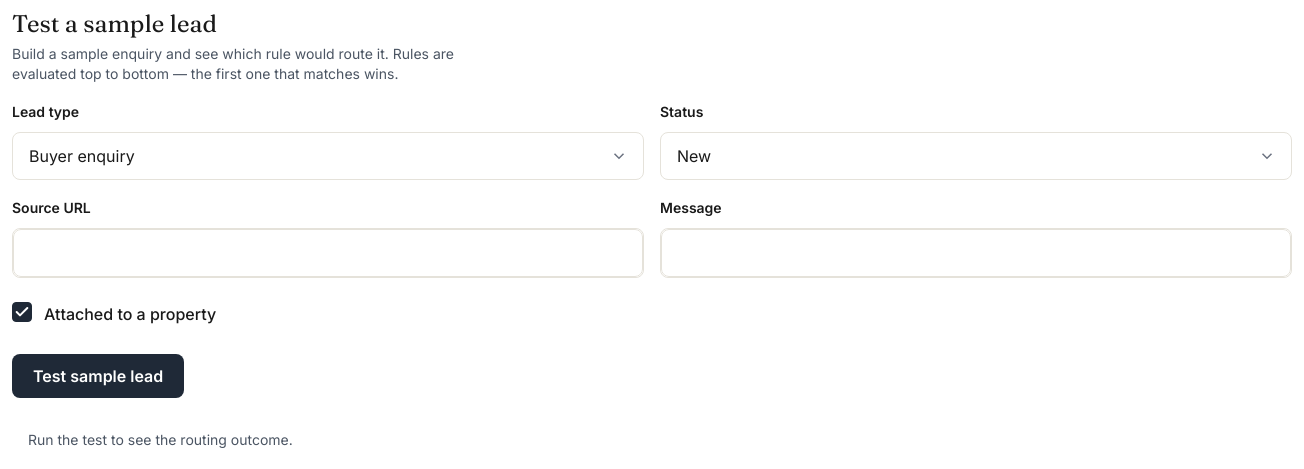
Test: AssignmentRuleTester (FR-H-4 — test against a sample before saving) › falls through to a later rule when the first does not match
The width and height of the screenshot is (1304, 469).
Select "Contacted" in the dropdown labelled "Status" at (976,156), box [660, 132, 1292, 180]
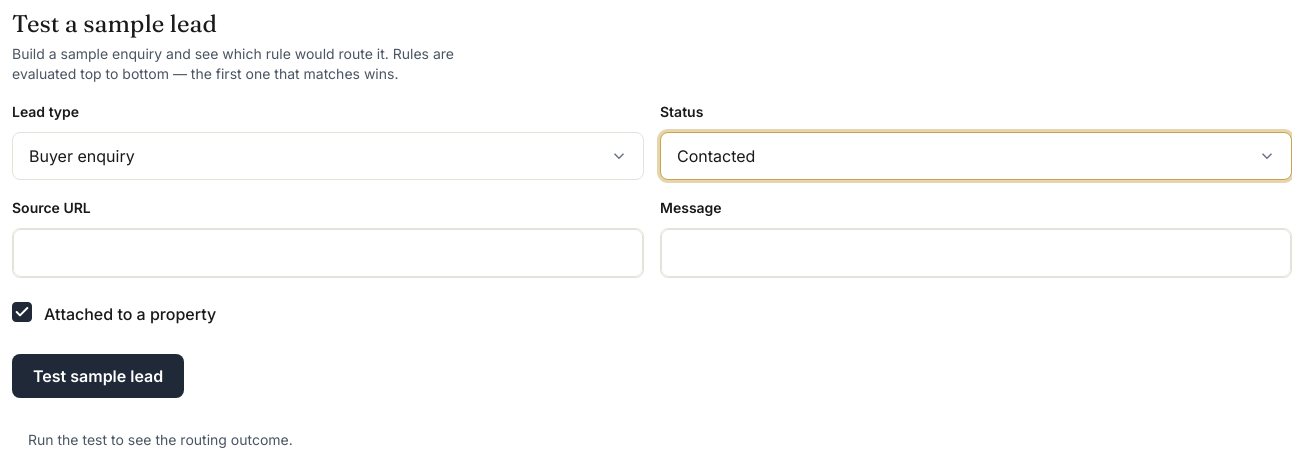
Click the button "Test sample lead" at (98,376), box [12, 354, 184, 398]
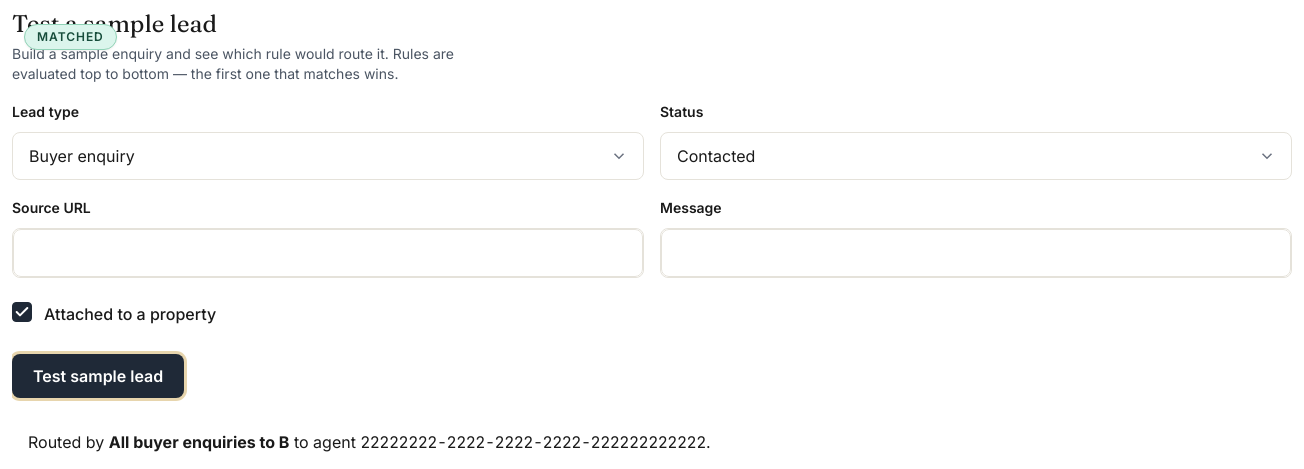
Now the message with test id "rule-tester-result" shows "All buyer enquiries to B", box [109, 432, 289, 452]
